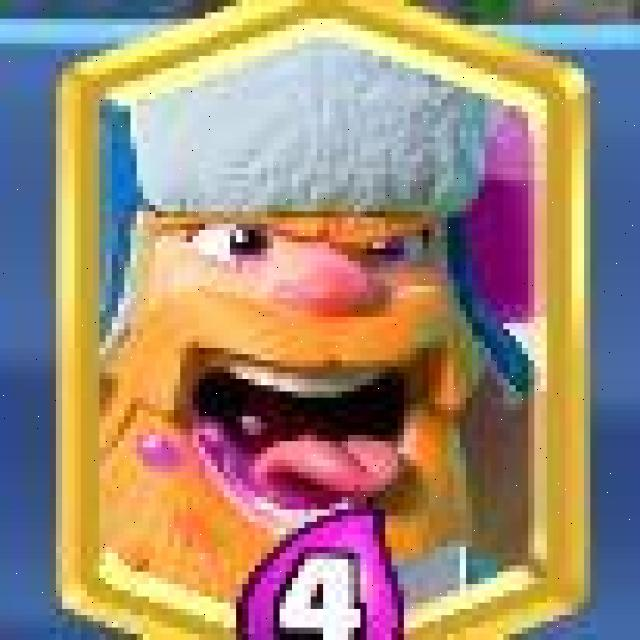Lumberjack: (64, 2, 582, 638)
